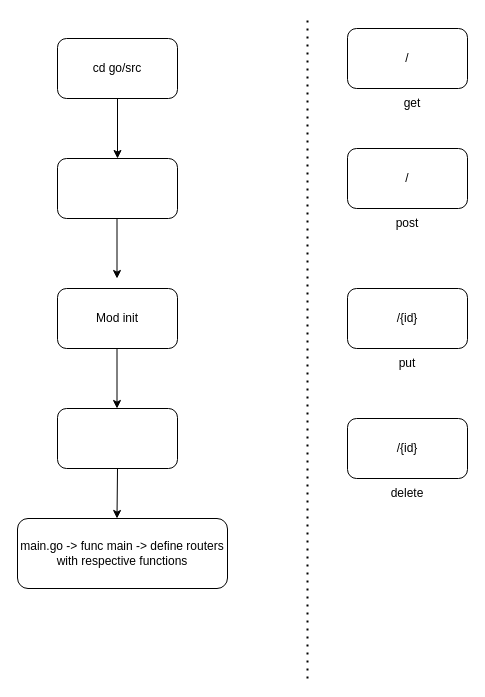
This 485x697 diagram has some shape labels left out. Here are the shapes that lost their labels. From the top down, the centre of each, then its label:
At pixel 117 188: "mkdir".
At pixel 117 438: "go get packages".
